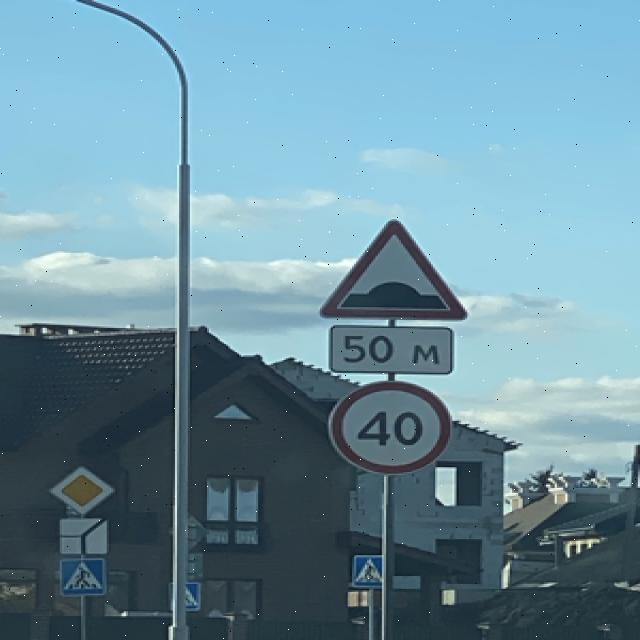Speedlimit: (324, 378, 452, 475)
